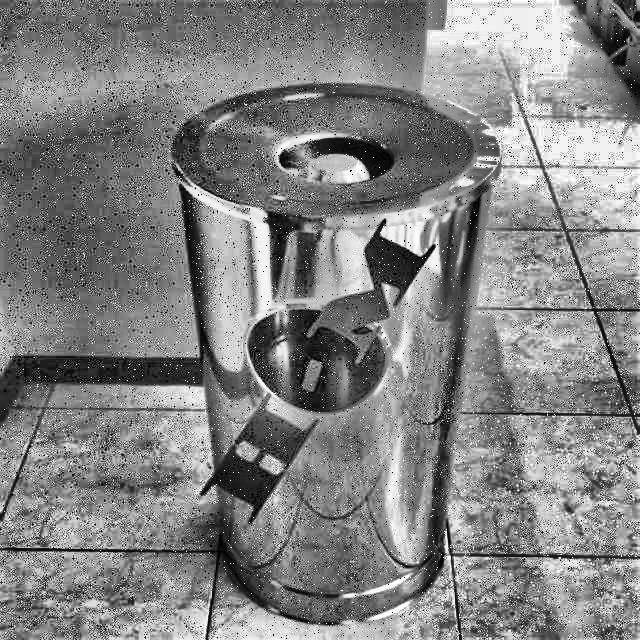Dustbin: (164, 72, 530, 631)
